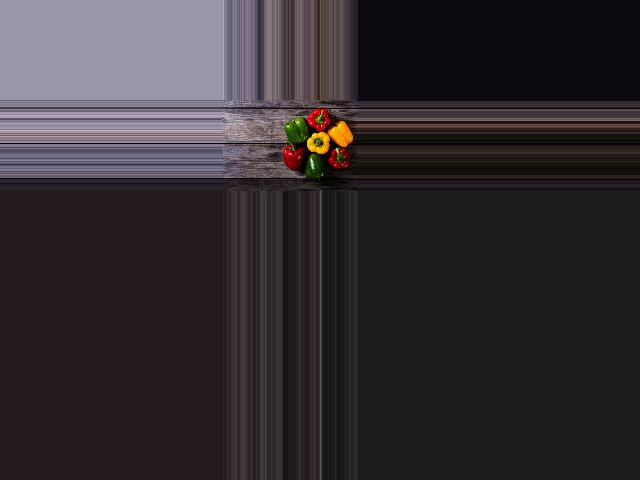bell_pepper: (327, 142, 355, 169)
